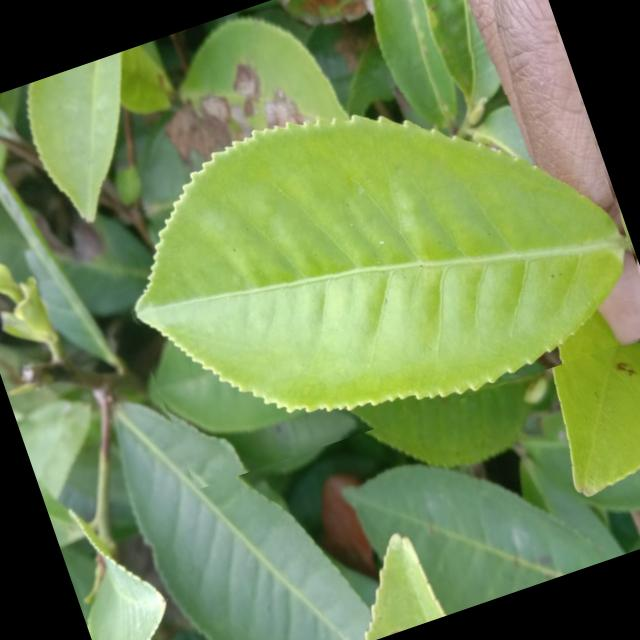Category B(2-4 days): (78, 14, 640, 492)
